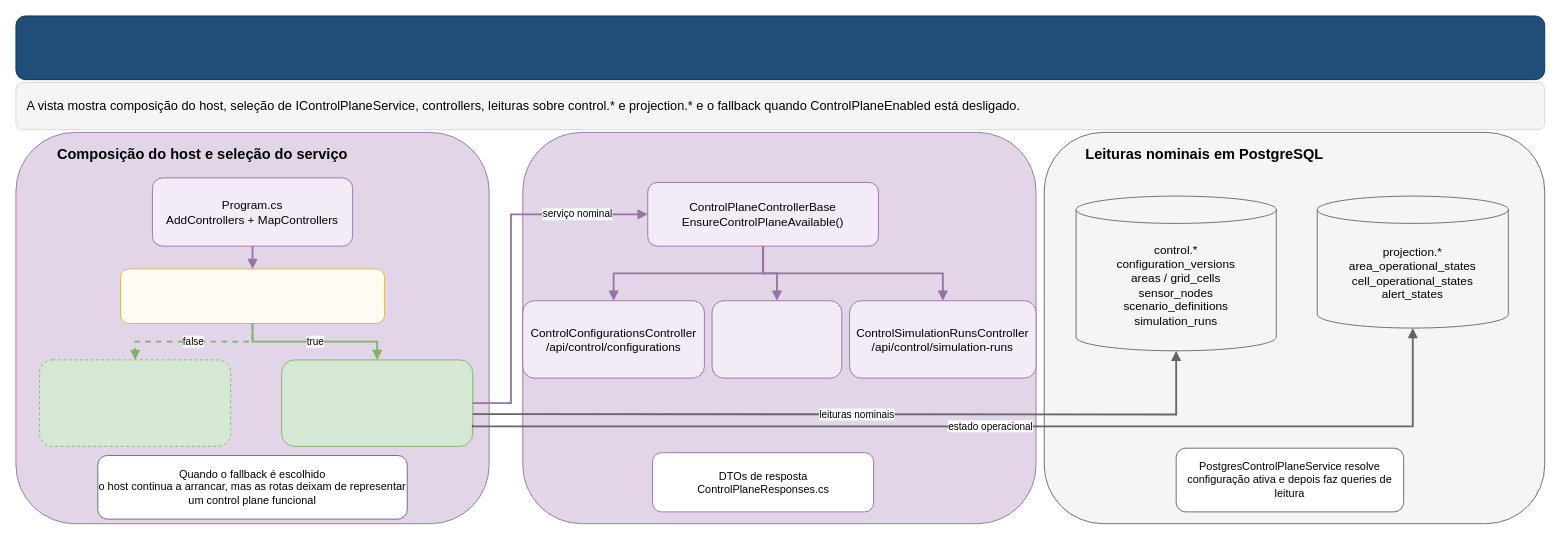
The diagram is 1561 pixels wide and 540 high, and some of its shapes have lost their labels. Here are the shapes that lost their labels. From the top down, the box of each, then its label:
(15, 15, 1545, 80): Caminhos de leitura da Backoffice.Api no estado atual
(120, 268, 384, 324): BackofficeApiOptions.ControlPlaneEnabled = true
(711, 300, 842, 378): ControlAreasController /api/control/areas
(522, 131, 1036, 524): Controllers e guardas comuns
(39, 359, 231, 446): IControlPlaneService UnavailableControlPlaneService (fallback)
(281, 359, 473, 446): IControlPlaneService PostgresControlPlaneService (caminho nominal)
